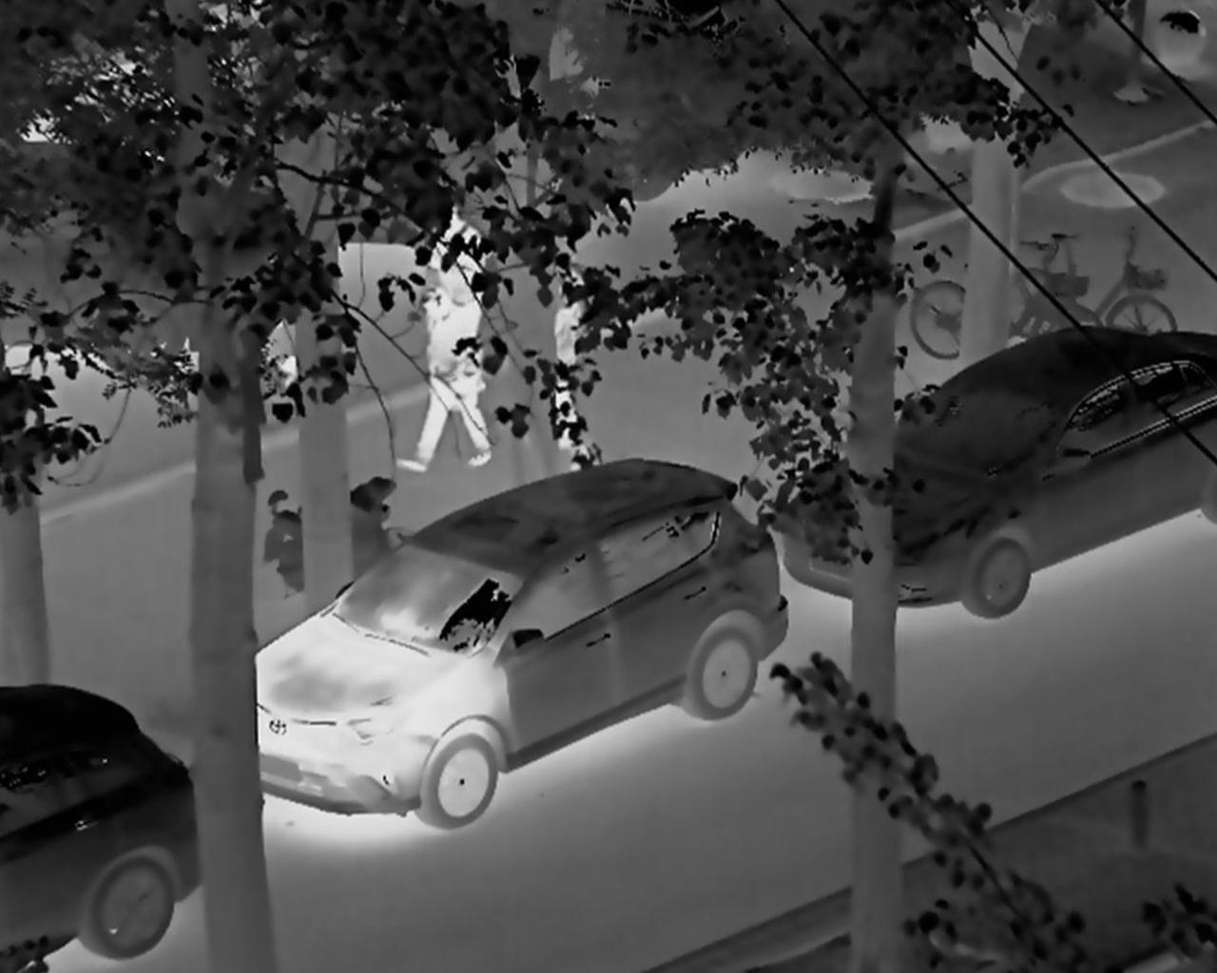person: (396, 238, 491, 471), (549, 268, 584, 446)
